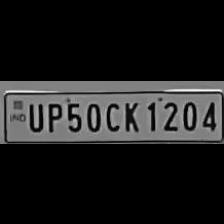0: (82, 99, 102, 131), (179, 96, 197, 130)
1: (141, 97, 158, 130)
2: (159, 97, 179, 130)
4: (198, 96, 218, 130)
5: (63, 98, 83, 132)
C: (102, 98, 120, 132)
K: (120, 98, 140, 132)
P: (43, 99, 62, 133)
U: (24, 98, 44, 132)
